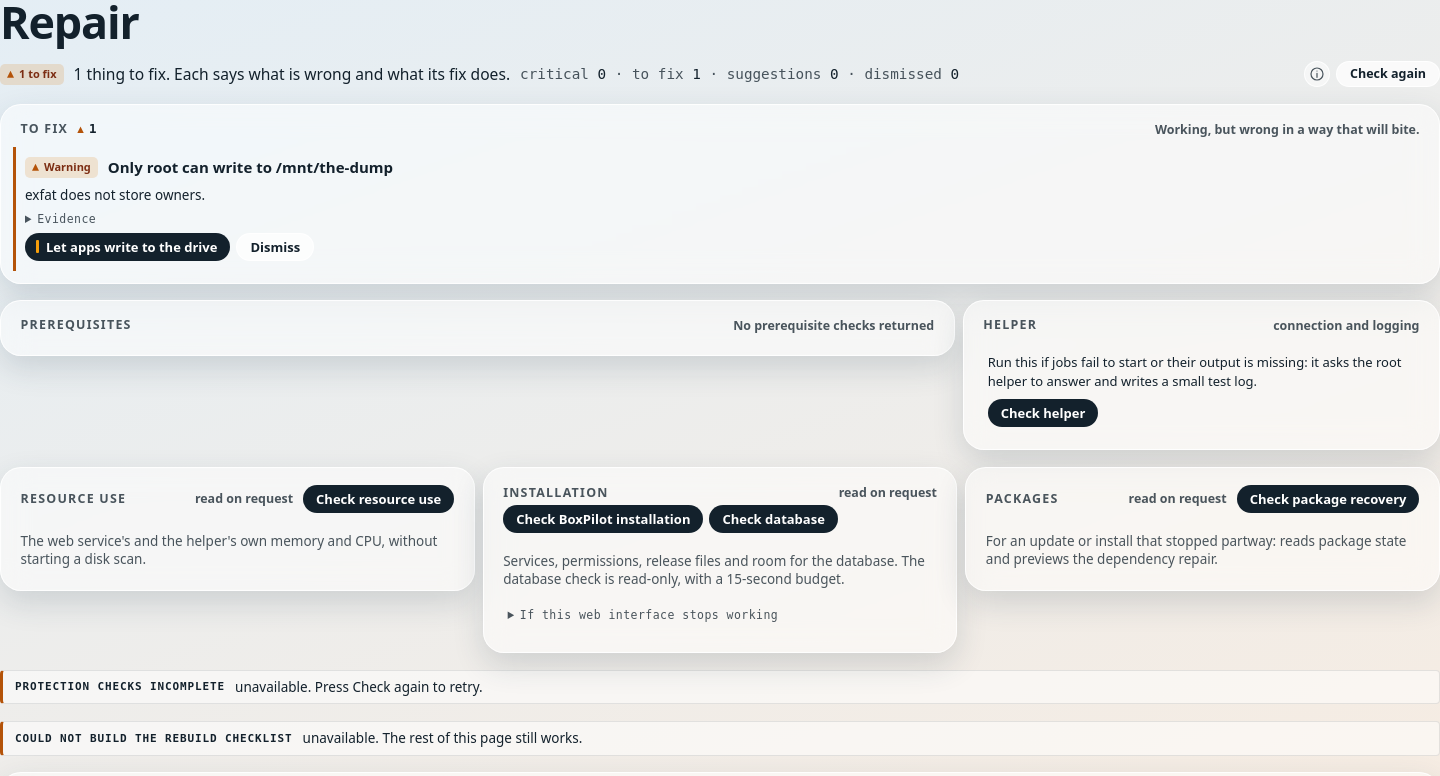
Repair that fixes (M35) › runs a fix through the approval dialog, streams its log in the card, and says Fixed with what changed
Click the button with aria-label "Let apps write to the drive: ".
click(128, 247)  # box [25,233,230,261]
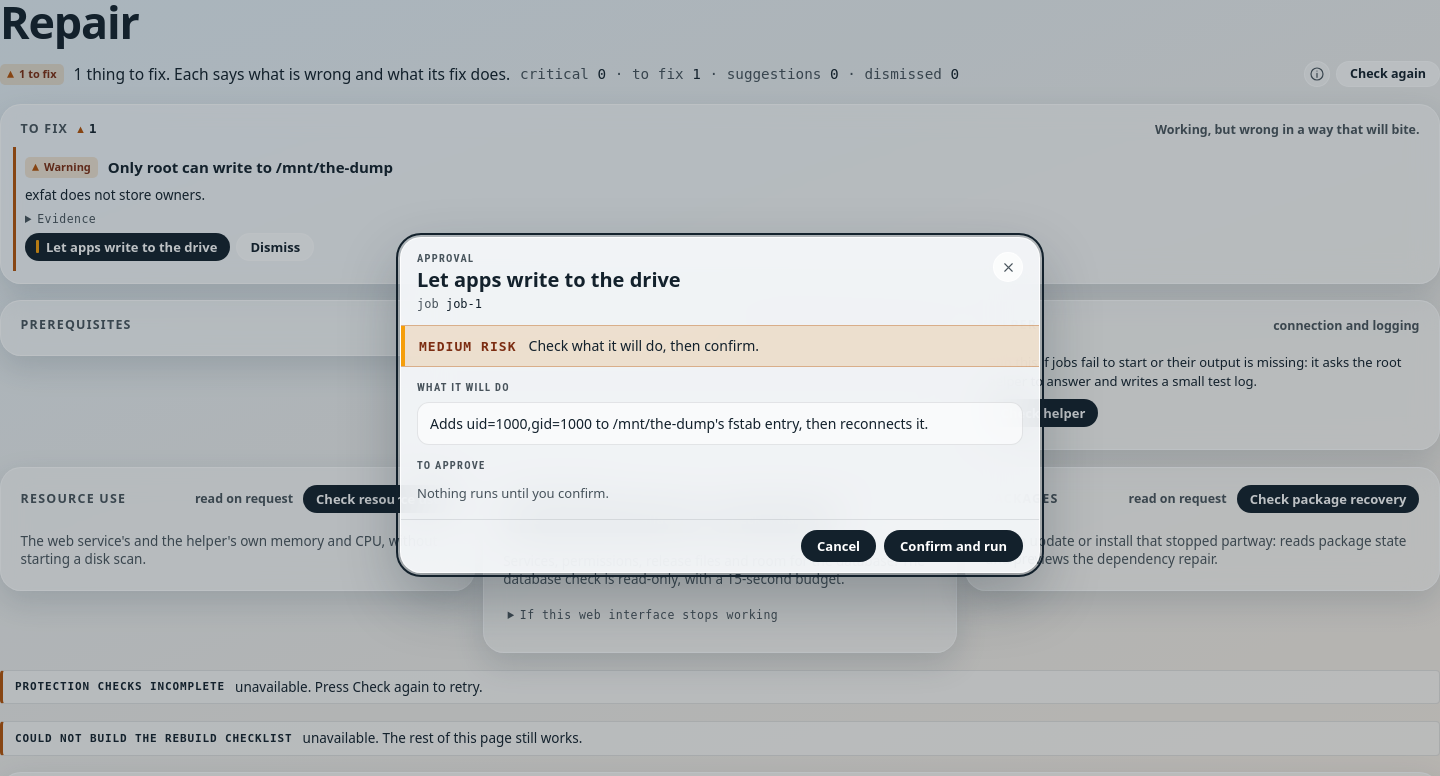
Result: the text "Medium risk" is shown at [419,339,516,354]
Click the button "Confirm and run".
click(954, 546)  # box [884,530,1023,562]
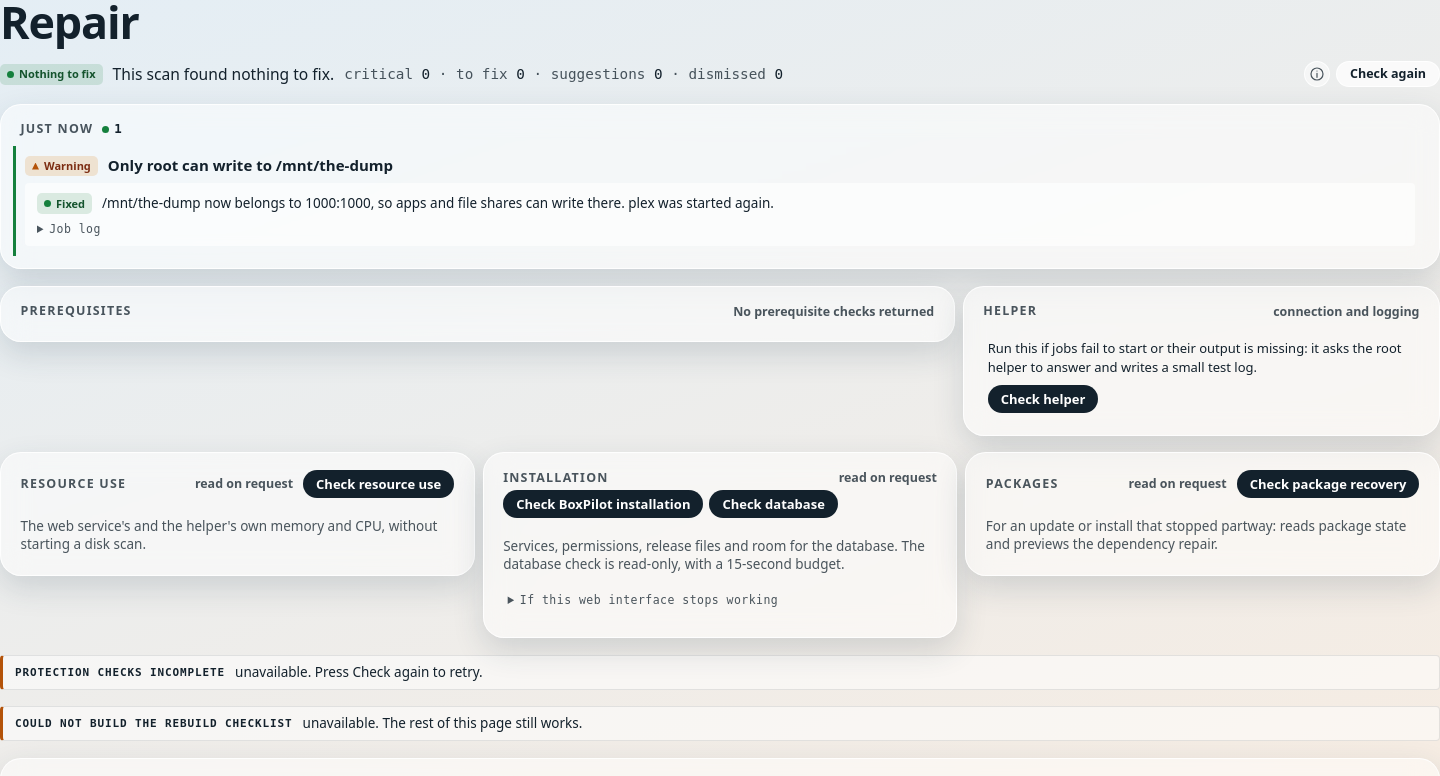
Result: the text "/mnt/the-dump now belongs to 1000:1000, so apps and file shares can write there. plex was started again." is shown at [102,194,774,212]
Result: the text "Fixed" is shown at [37,194,92,214]
